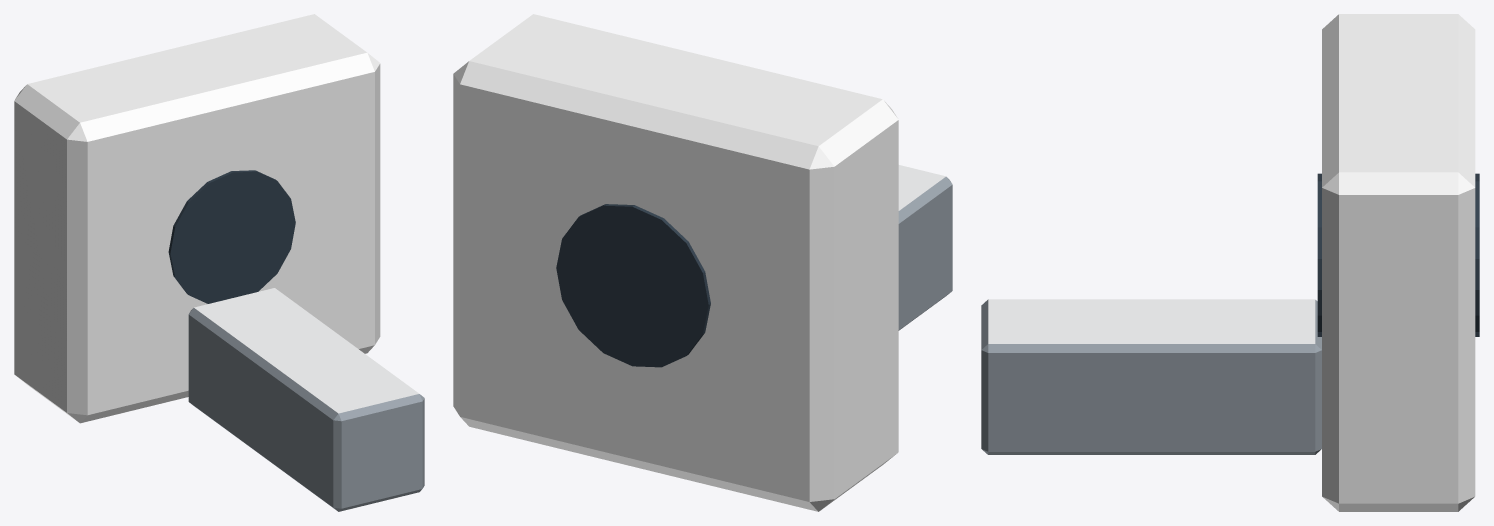
The picture shows the model from 3 angles, left to right: view 1: azimuth 30°, elevation 25°; view 2: azimuth 150°, elevation 25°; view 3: azimuth 270°, elevation 25°; orthographic projection. The views are drawn at different scales.
Parts seen in each view (by area): view 1: ct; view 2: ct; view 3: ct.
Part boxes in pixels (x1,y1,x2,y2): ct: [14, 14, 424, 511]; ct: [453, 14, 952, 511]; ct: [981, 14, 1479, 511].
Size of the model in its own units: 2.4 by 2.2 by 2.93.
